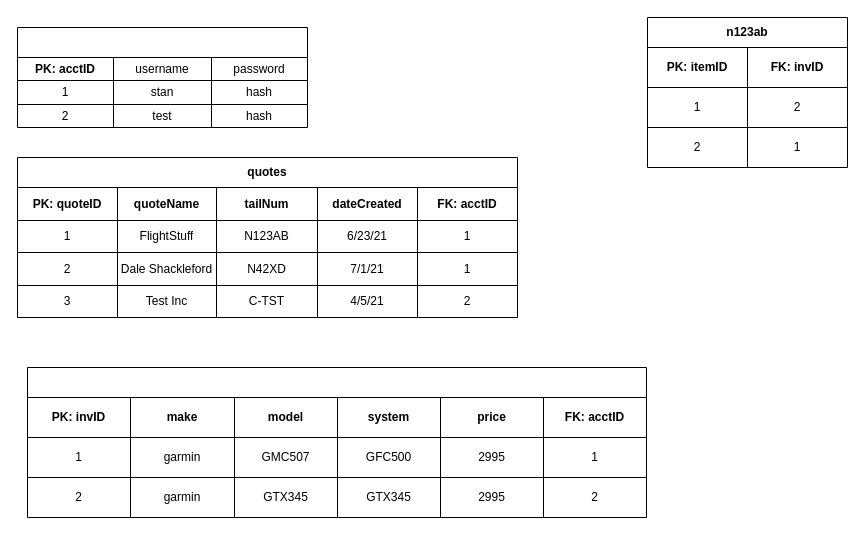
This 865x535 diagram has some shape labels left out. The box of each missing label's shape, as (x1, y1, x2, y2) in pixels:
accounts: (16, 26, 308, 128)
inventory: (26, 366, 646, 518)
